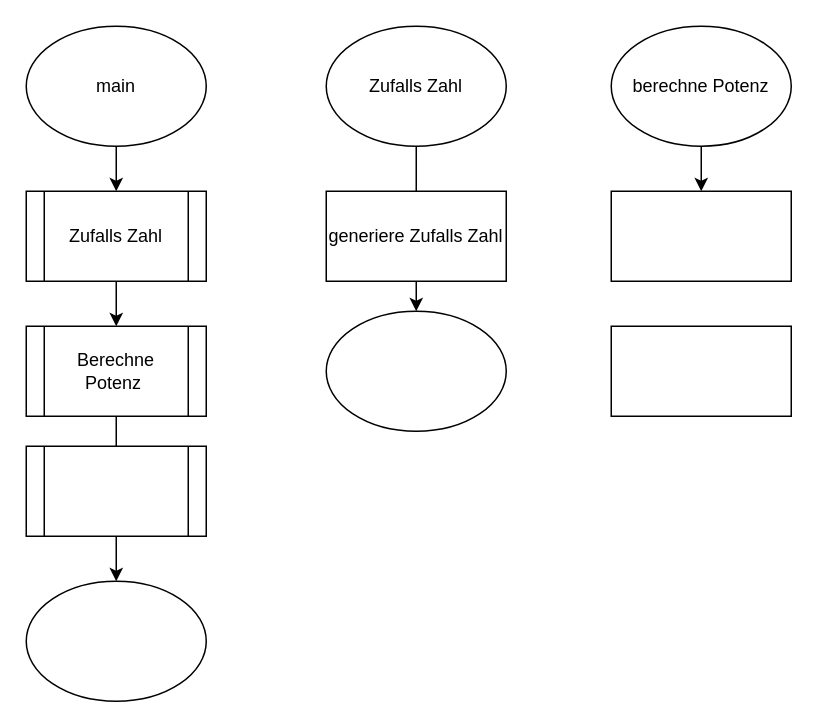
Some shapes in this 818 by 728 pixel diagram are drawn without their labels. The centre of each missing label's shape, as x and y in pixels:
"gib Zufalls Zahl und Potenz aus" belongs at pixel 115 490.
"int Zufalls Zahl = Zufalls Zahl int hochzahl = 2" belongs at pixel 700 235.
"return Zufalls Zahl" belongs at pixel 415 370.
